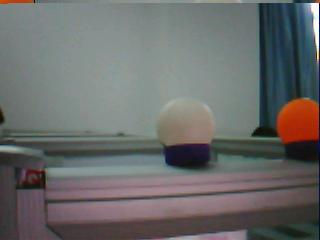oball: (277, 98, 320, 142)
